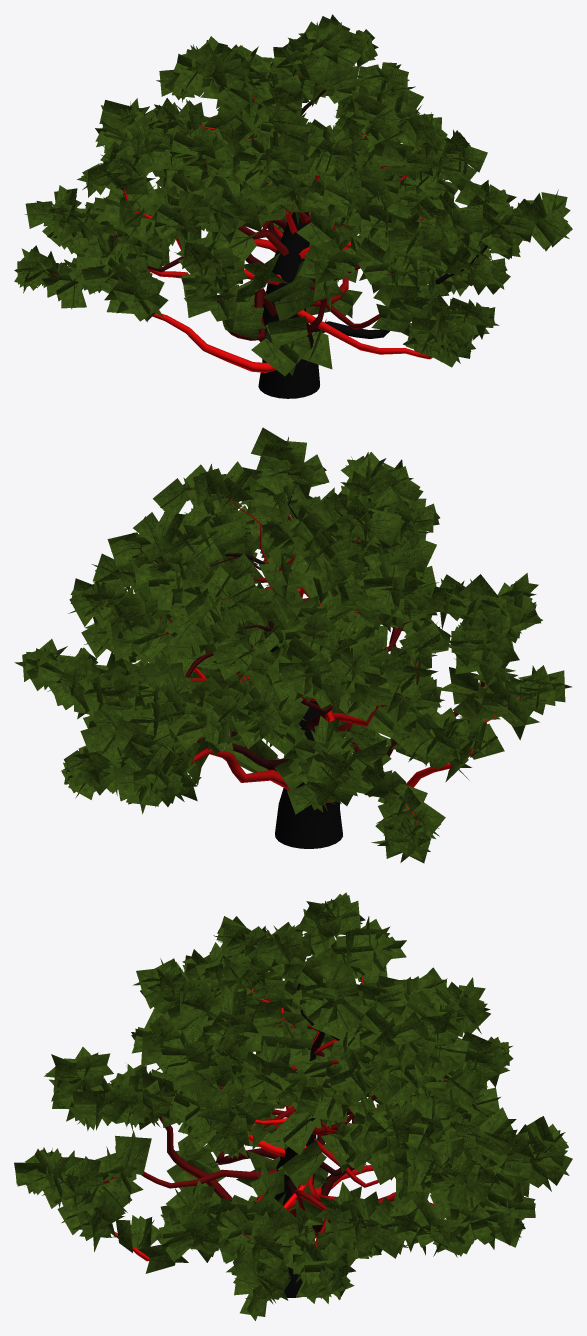
Rendered from oak6 lod0.FBX.
3 views of the same model, one above another, from view 1: azimuth 30°, elevation 25°; view 2: azimuth 150°, elevation 25°; view 3: azimuth 270°, elevation 25° (orthographic). The views are drawn at different scales.
Visible parts, largest first — view 1: oak6; view 2: oak6; view 3: oak6.
Part boxes in pixels (x1,y1,x2,y2): oak6: (14,14,572,398); oak6: (14,427,571,863); oak6: (14,892,572,1320).
Bounding box in the file's own units: 202608 × 151816 × 205477.
